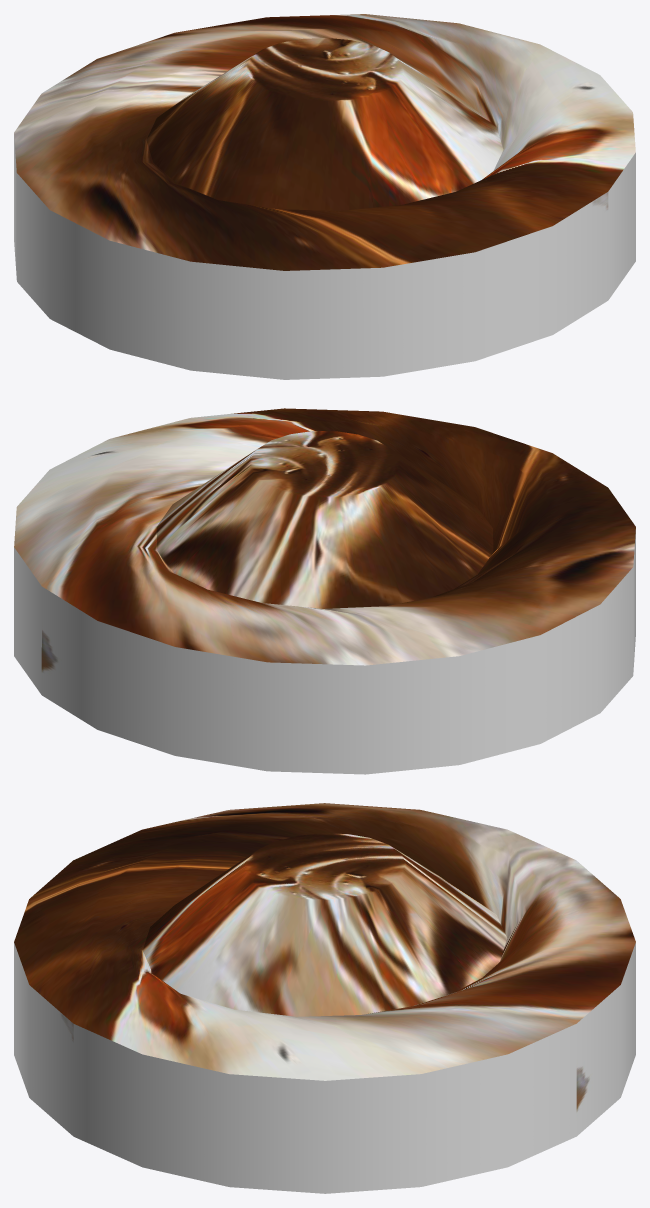
The model's file is Whisking Bowl Fill.fbx.
3 views of the same model, one above another, from view 1: azimuth 30°, elevation 25°; view 2: azimuth 150°, elevation 25°; view 3: azimuth 270°, elevation 25° (orthographic). The views are drawn at different scales.
Visible parts, largest first — view 1: Whisk_Bowl_Fill; view 2: Whisk_Bowl_Fill; view 3: Whisk_Bowl_Fill.
Part boxes in pixels (bbox=[...]): Whisk_Bowl_Fill: bbox=[14, 14, 635, 379]; Whisk_Bowl_Fill: bbox=[14, 408, 635, 774]; Whisk_Bowl_Fill: bbox=[14, 803, 635, 1193].
Bounding box in the file's own units: 3.14 × 0.9904 × 2.96.
Materials: 1 (1 with a texture image).
